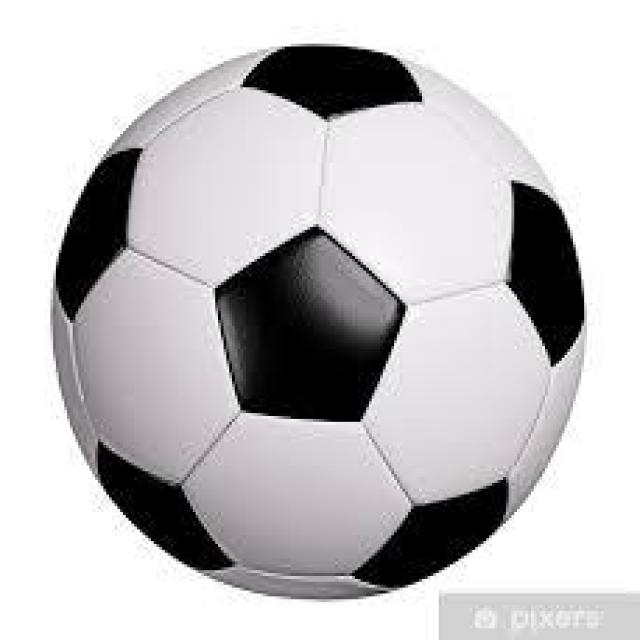Soccer Ball: (45, 41, 584, 599)
